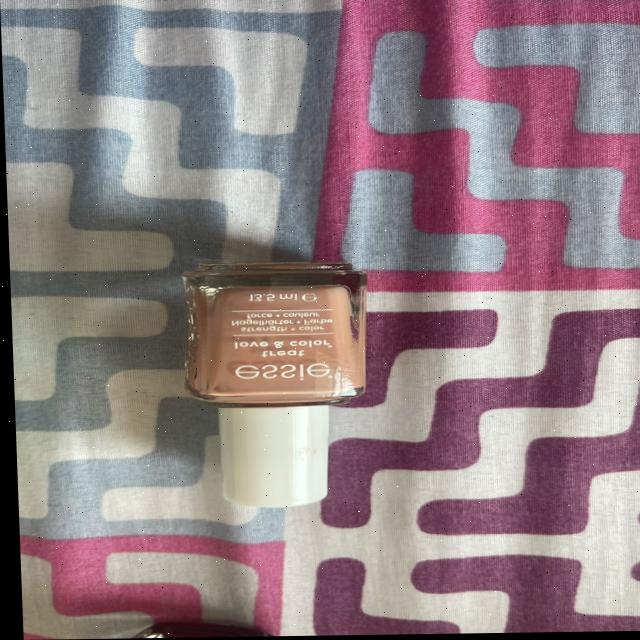nail polish: (157, 242, 383, 546)
